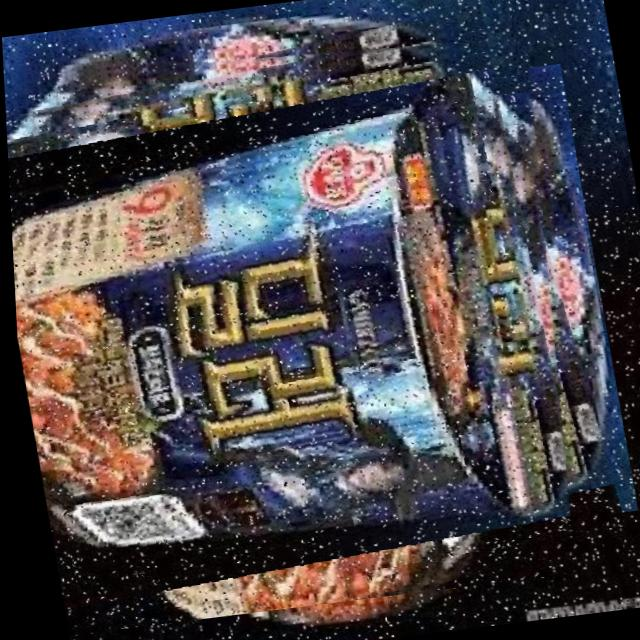Miscellaneous: (1, 12, 614, 635)
